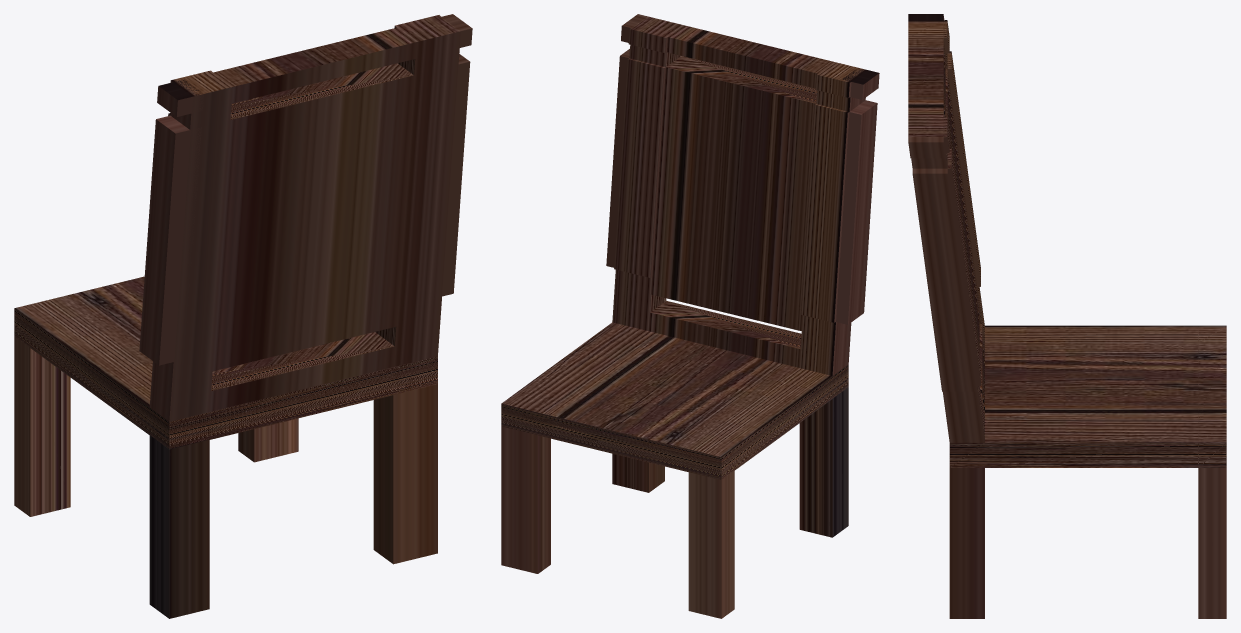
Rendered from kursi1cklt.glb.
The picture shows the model from 3 angles, left to right: view 1: azimuth 30°, elevation 25°; view 2: azimuth 150°, elevation 25°; view 3: azimuth 270°, elevation 25°; orthographic projection. The views are drawn at different scales.
Visible parts, largest first — view 1: Cube; view 2: Cube; view 3: Cube.
Boxes of the visible parts, x1,y1,x2,y2 form: Cube: (14,14,472,618); Cube: (501,14,879,618); Cube: (908,14,1226,618).
Bounding box in the file's own units: 0.6607 × 1.16 × 0.6919.
1 material, 1 textured.
